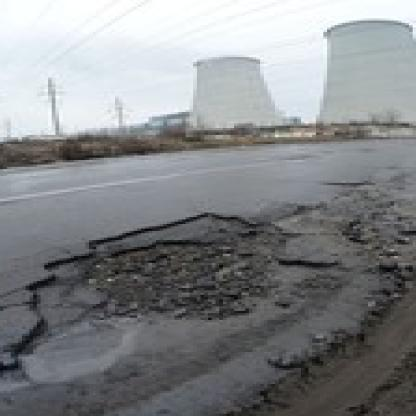pothole: (0, 208, 338, 384)
